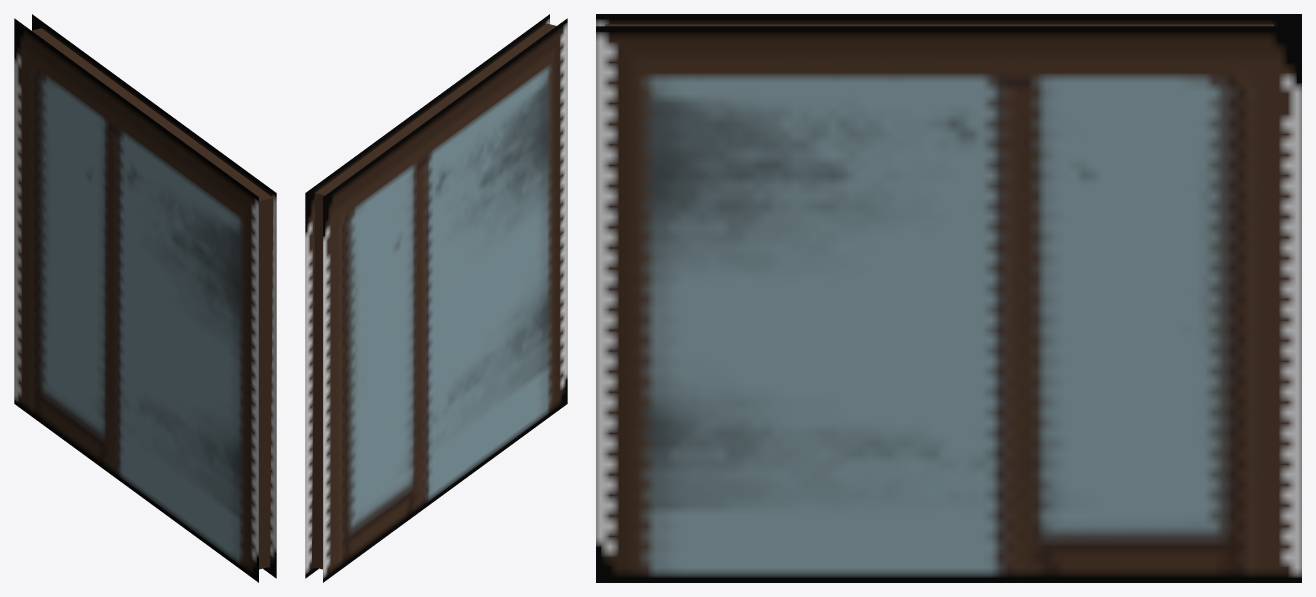
The model's file is pz_native_location_hospitality_sunstarmotel_01_28_frame.obj.
3 renders of one model, left to right at view 1: azimuth 30°, elevation 25°; view 2: azimuth 150°, elevation 25°; view 3: azimuth 270°, elevation 25°, orthographic. The views are drawn at different scales.
Parts seen in each view (by area): view 1: pz_native_location_hospitality_sunstarmotel_01_28_frame; view 2: pz_native_location_hospitality_sunstarmotel_01_28_frame; view 3: pz_native_location_hospitality_sunstarmotel_01_28_frame.
Part boxes in pixels (x1=…): pz_native_location_hospitality_sunstarmotel_01_28_frame: x1=14, y1=14, x2=276, y2=582; pz_native_location_hospitality_sunstarmotel_01_28_frame: x1=305, y1=14, x2=567, y2=582; pz_native_location_hospitality_sunstarmotel_01_28_frame: x1=596, y1=14, x2=1301, y2=582.
Bounding box in the file's own units: 0.04 × 0.8438 × 0.9696.
Materials: 1 (1 with a texture image).
